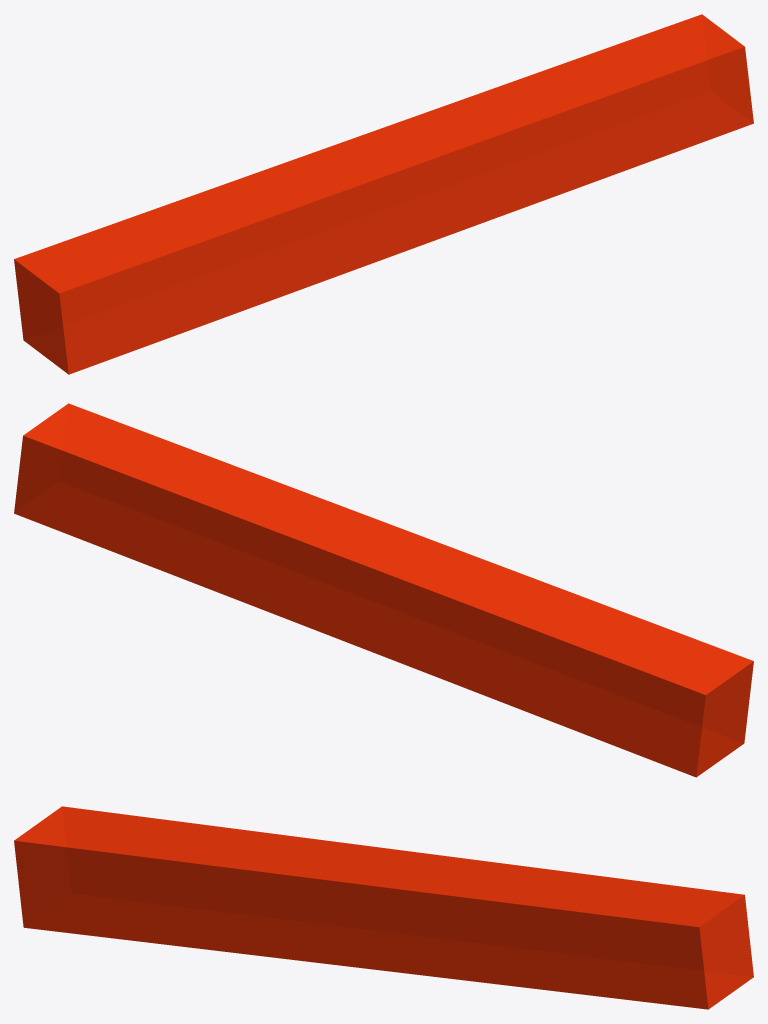
The model's file is Event_421115418_EErechit_58.fbx.
3 views of the same model, one above another, from view 1: azimuth 30°, elevation 25°; view 2: azimuth 150°, elevation 25°; view 3: azimuth 330°, elevation 25° (orthographic).
Visible parts, largest first — view 1: Model; view 2: Model; view 3: Model.
Part boxes in pixels (bbox=[...]): Model: bbox=[14, 14, 753, 374]; Model: bbox=[14, 403, 753, 777]; Model: bbox=[14, 806, 753, 1009].
Bounding box in the file's own units: 0.6588 × 0.1532 × 0.0849.
